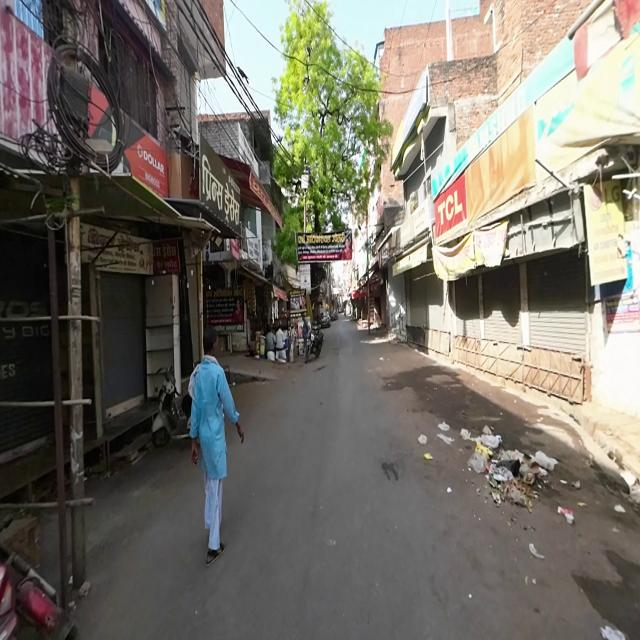Garbage: (475, 428, 556, 514), (418, 420, 472, 470), (558, 477, 587, 527)
